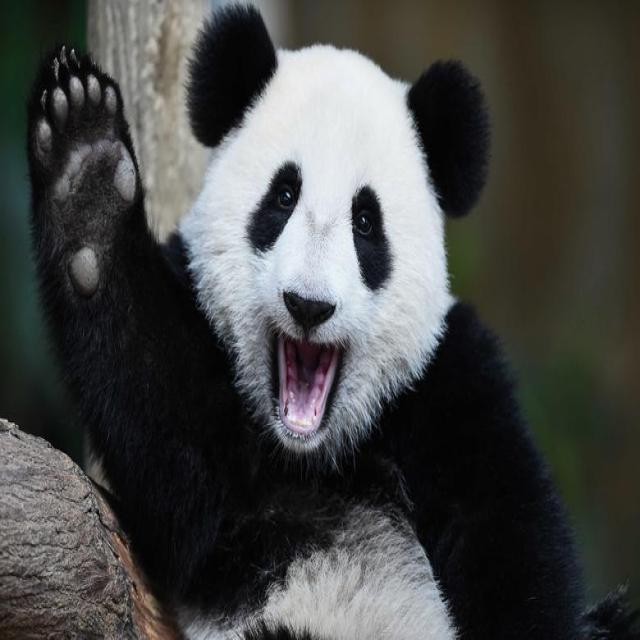panda: (13, 1, 586, 630)
